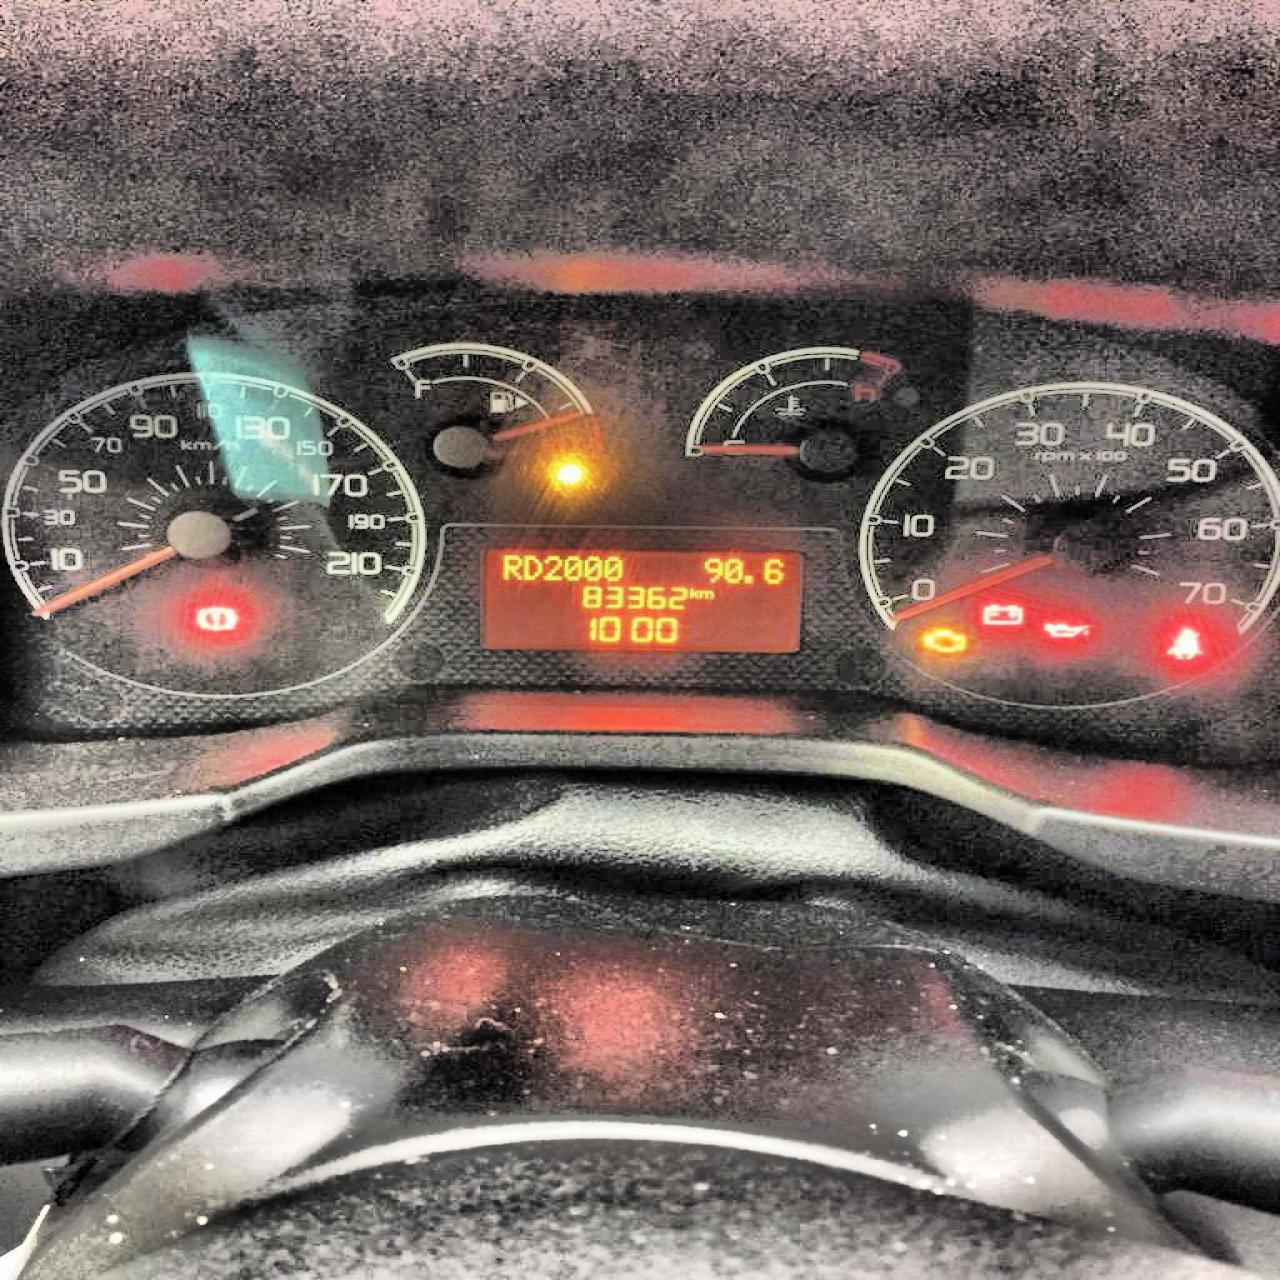-: (742, 572, 755, 584)
0: (597, 615, 620, 642), (631, 615, 652, 644), (655, 615, 676, 642), (722, 556, 742, 583), (561, 554, 580, 579), (604, 554, 621, 580), (584, 554, 600, 580)
1: (586, 614, 597, 641)
2: (542, 554, 561, 580), (667, 585, 687, 610)
3: (604, 585, 621, 610), (627, 584, 644, 608)
6: (761, 557, 782, 585), (645, 583, 663, 608)
8: (580, 583, 600, 606)
9: (703, 556, 722, 583)
X: (501, 552, 520, 581), (522, 552, 542, 581), (699, 588, 715, 599), (688, 585, 699, 599)
odometer: (478, 543, 803, 654)
